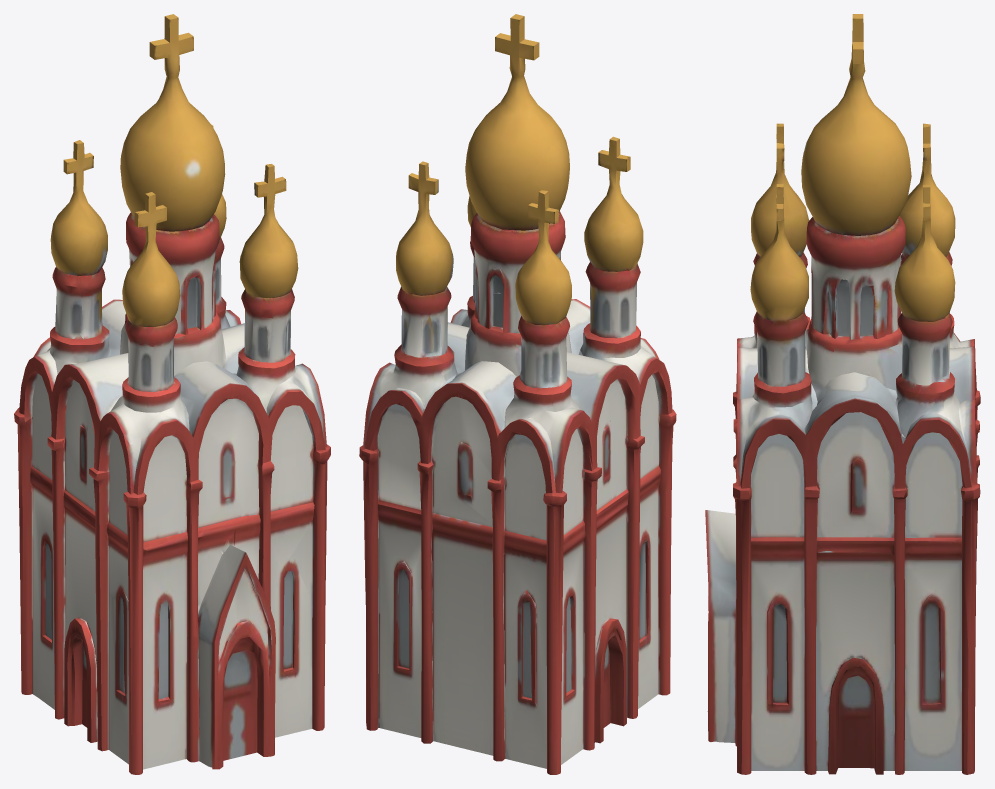
Rendered from w4-holy-virgin.glb.
The picture shows the model from 3 angles, left to right: view 1: azimuth 30°, elevation 25°; view 2: azimuth 150°, elevation 25°; view 3: azimuth 270°, elevation 25°; orthographic projection. The views are drawn at different scales.
Parts seen in each view (by area): view 1: w4-holy-virgin; view 2: w4-holy-virgin; view 3: w4-holy-virgin.
Part boxes in pixels (<box>): w4-holy-virgin: <box>14,14,330,774</box>; w4-holy-virgin: <box>359,14,676,774</box>; w4-holy-virgin: <box>705,14,980,774</box>.
Size of the model in its own units: 2.8 by 9.1 by 3.2.
1 material, 1 textured.
